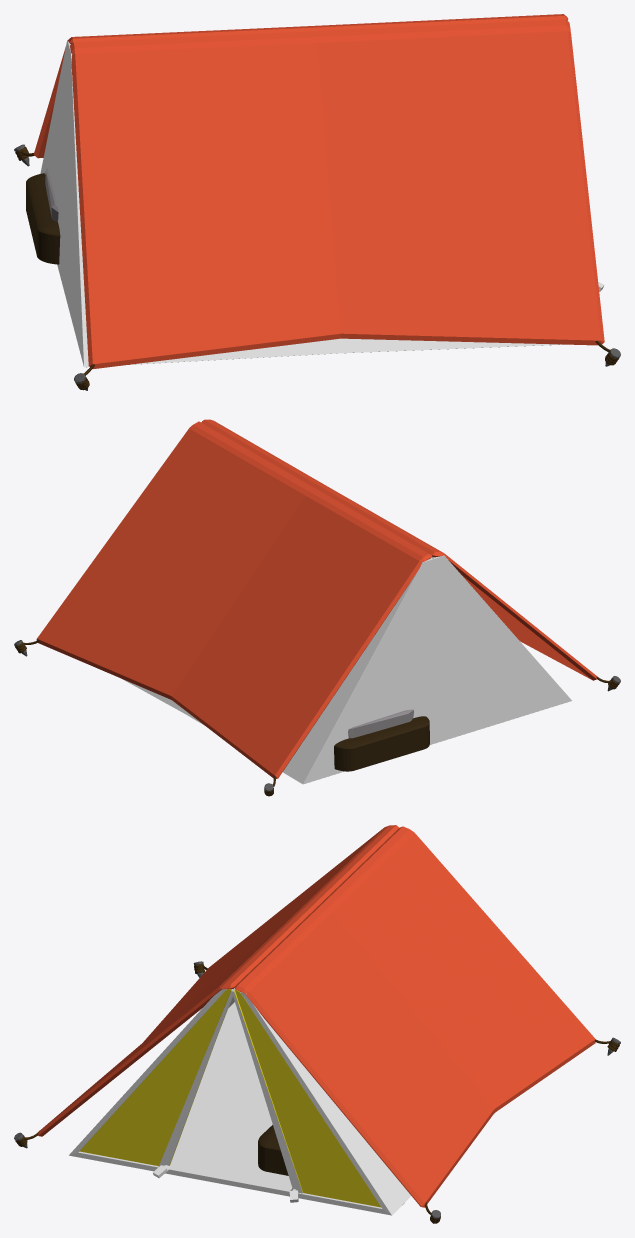
Rendered from Tent_v2.fbx.
3 views of the same model, one above another, from view 1: azimuth 30°, elevation 25°; view 2: azimuth 150°, elevation 25°; view 3: azimuth 270°, elevation 25° (orthographic). The views are drawn at different scales.
Visible parts, largest first — view 1: Tent Outer Shell, Tent Inner Shell, Bedroll; view 2: Tent Outer Shell, Tent Inner Shell, Bedroll, Pillow; view 3: Tent Outer Shell, Tent Doors, Tent Inner Shell, Bedroll.
Part boxes in pixels (<box>): Tent Outer Shell: <box>33,14,604,368</box>; Tent Inner Shell: <box>40,31,570,367</box>; Bedroll: <box>26,173,60,264</box>; Tent Outer Shell: <box>36,419,596,778</box>; Tent Inner Shell: <box>122,555,571,784</box>; Bedroll: <box>334,716,429,771</box>; Pillow: <box>348,709,413,738</box>; Tent Outer Shell: <box>38,825,595,1207</box>; Tent Doors: <box>79,989,381,1207</box>; Tent Inner Shell: <box>69,988,495,1215</box>; Bedroll: <box>258,1125,288,1175</box>.
Size of the model in its own units: 569 by 206 by 573.
9 materials, 4 textured.
